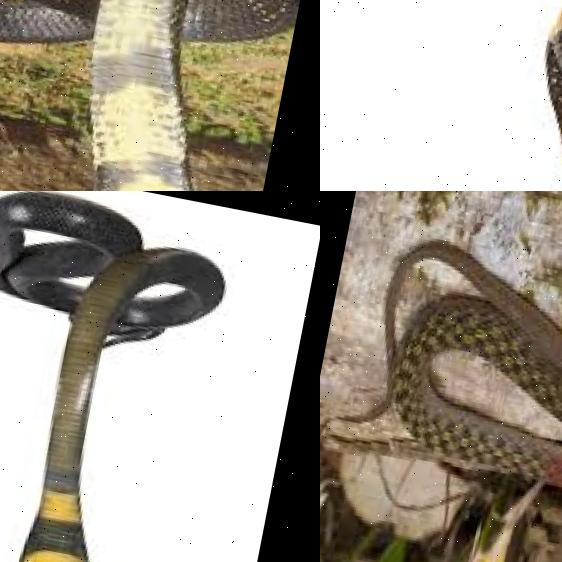snake: (322, 237, 562, 562), (0, 241, 216, 562), (0, 0, 320, 191), (320, 0, 562, 191)
